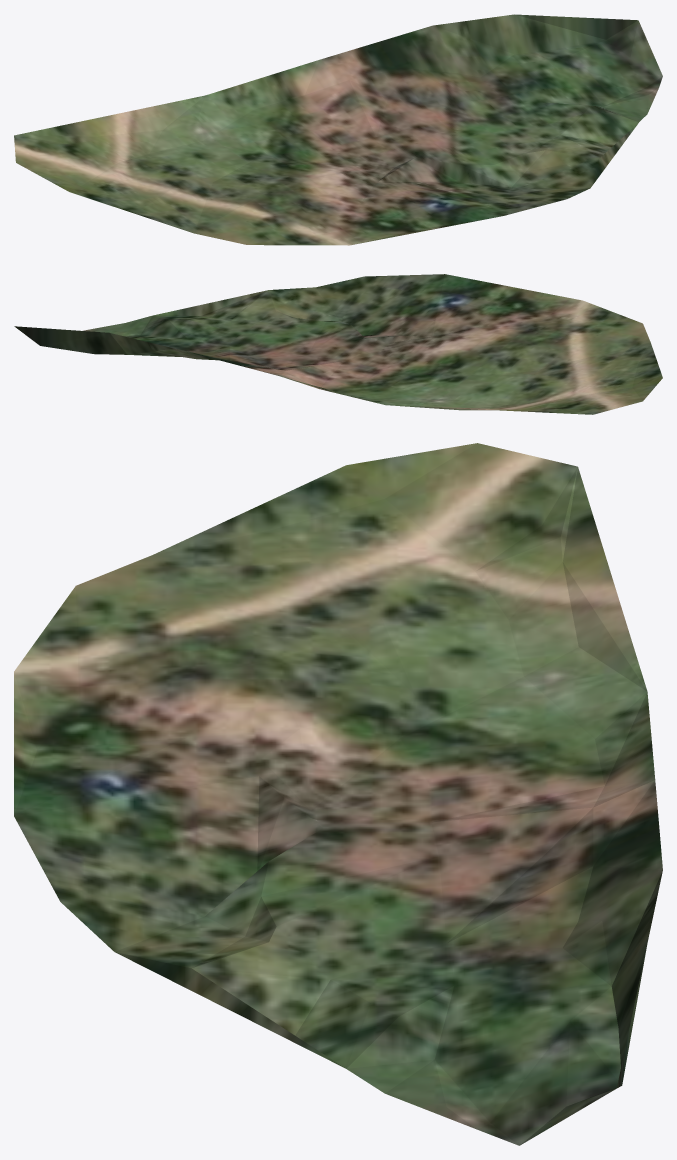
File: CINCIN_arazi_uydu_D5.obj
The picture shows the model from 3 angles, top to bottom: view 1: azimuth 30°, elevation 25°; view 2: azimuth 150°, elevation 25°; view 3: azimuth 270°, elevation 25°; orthographic projection. The views are drawn at different scales.
Size of the model in its own units: 172 by 20.6 by 84.
Materials: 1 (1 with a texture image).
